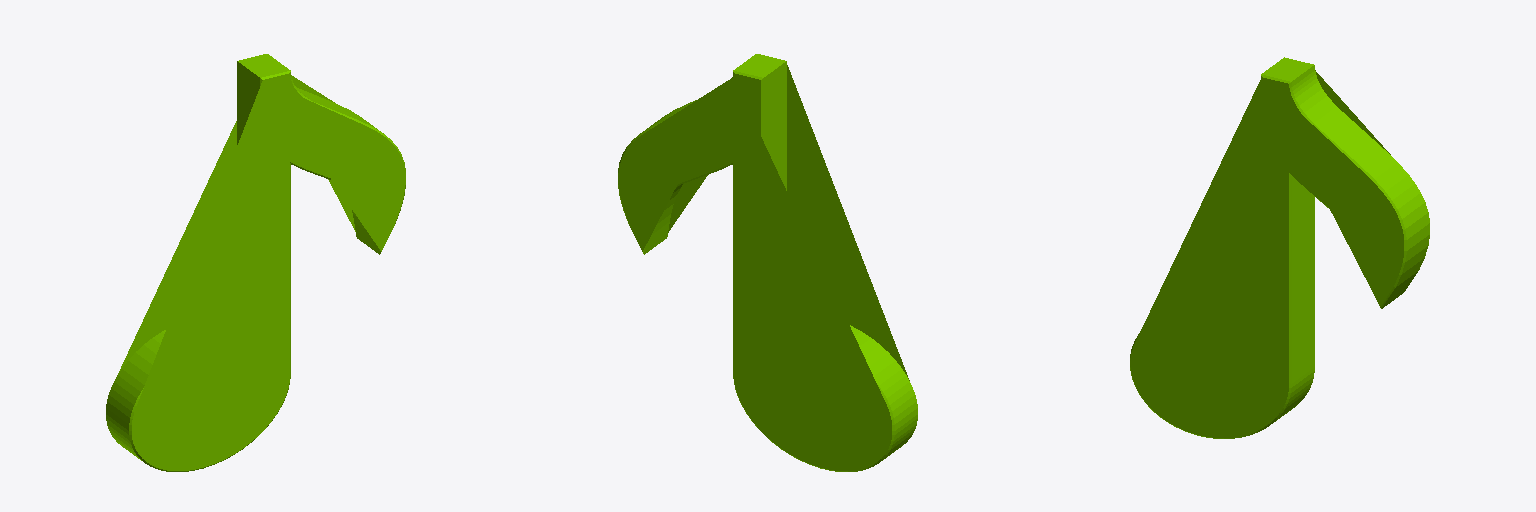
Rendered from greennote.obj.
3 views of the same model, side by side, from view 1: azimuth 30°, elevation 25°; view 2: azimuth 150°, elevation 25°; view 3: azimuth 330°, elevation 25° (orthographic).
Parts seen in each view (by area): view 1: Cap_1, Extrude.9, Cap_2, Rounding_1; view 2: Cap_2, Cap_1, Extrude.9, Rounding_2; view 3: Cap_1, Extrude.9, Rounding_1, Cap_2.
Part boxes in pixels (bbox=[...]): Cap_1: bbox=[132, 73, 405, 470]; Extrude.9: bbox=[106, 54, 383, 460]; Cap_2: bbox=[118, 75, 355, 373]; Rounding_1: bbox=[129, 71, 405, 471]; Cap_2: bbox=[618, 73, 891, 470]; Cap_1: bbox=[668, 65, 909, 380]; Extrude.9: bbox=[640, 54, 917, 460]; Rounding_2: bbox=[618, 71, 894, 471]; Cap_1: bbox=[1130, 77, 1403, 437]; Extrude.9: bbox=[1261, 57, 1429, 421]; Rounding_1: bbox=[1130, 75, 1406, 438]; Cap_2: bbox=[1315, 70, 1390, 154].
Bounding box in the file's own units: 206 × 268 × 32.4.